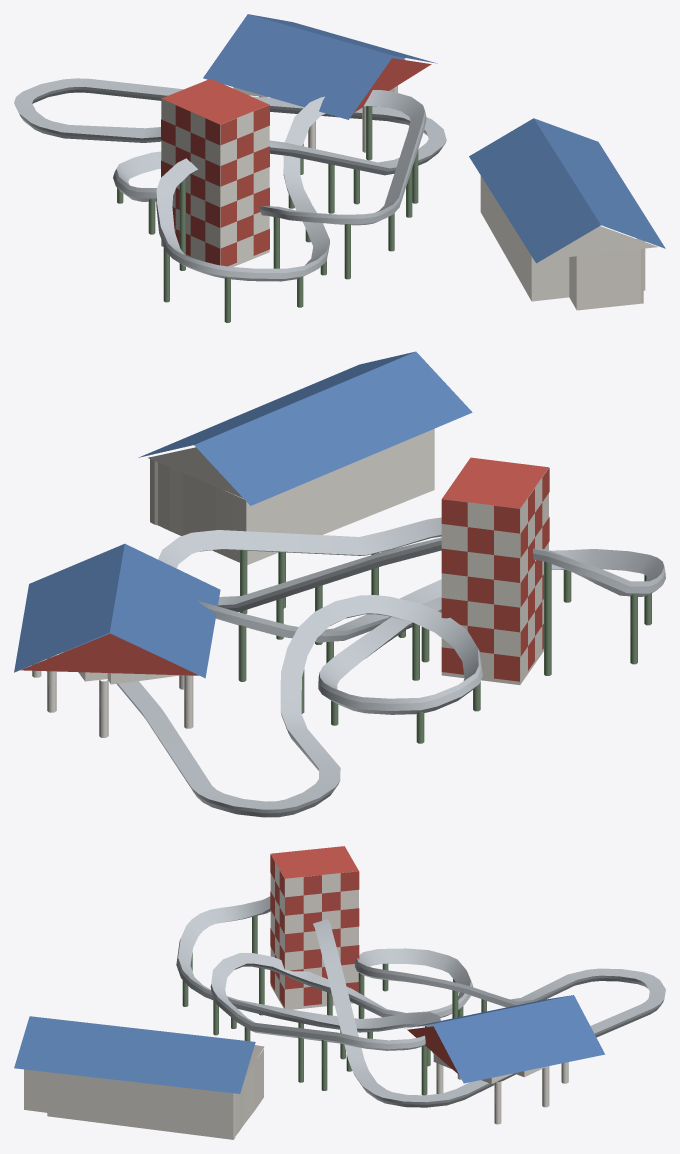
File: wdw-barnstormer.glb
The picture shows the model from 3 angles, top to bottom: view 1: azimuth 30°, elevation 25°; view 2: azimuth 150°, elevation 25°; view 3: azimuth 270°, elevation 25°; orthographic projection. The views are drawn at different scales.
Parts seen in each view (by area): view 1: The Barnstormer; view 2: The Barnstormer; view 3: The Barnstormer.
Boxes of the visible parts, x1,y1,x2,y2 form: The Barnstormer: (14,14,665,322); The Barnstormer: (14,351,665,817); The Barnstormer: (14,846,665,1139).
Size of the model in its own units: 43.64 by 15 by 64.1.
